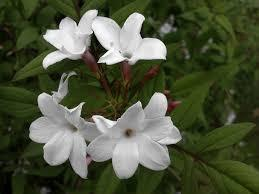jasmine: (31, 75, 188, 172), (87, 15, 194, 75), (43, 10, 99, 63)
